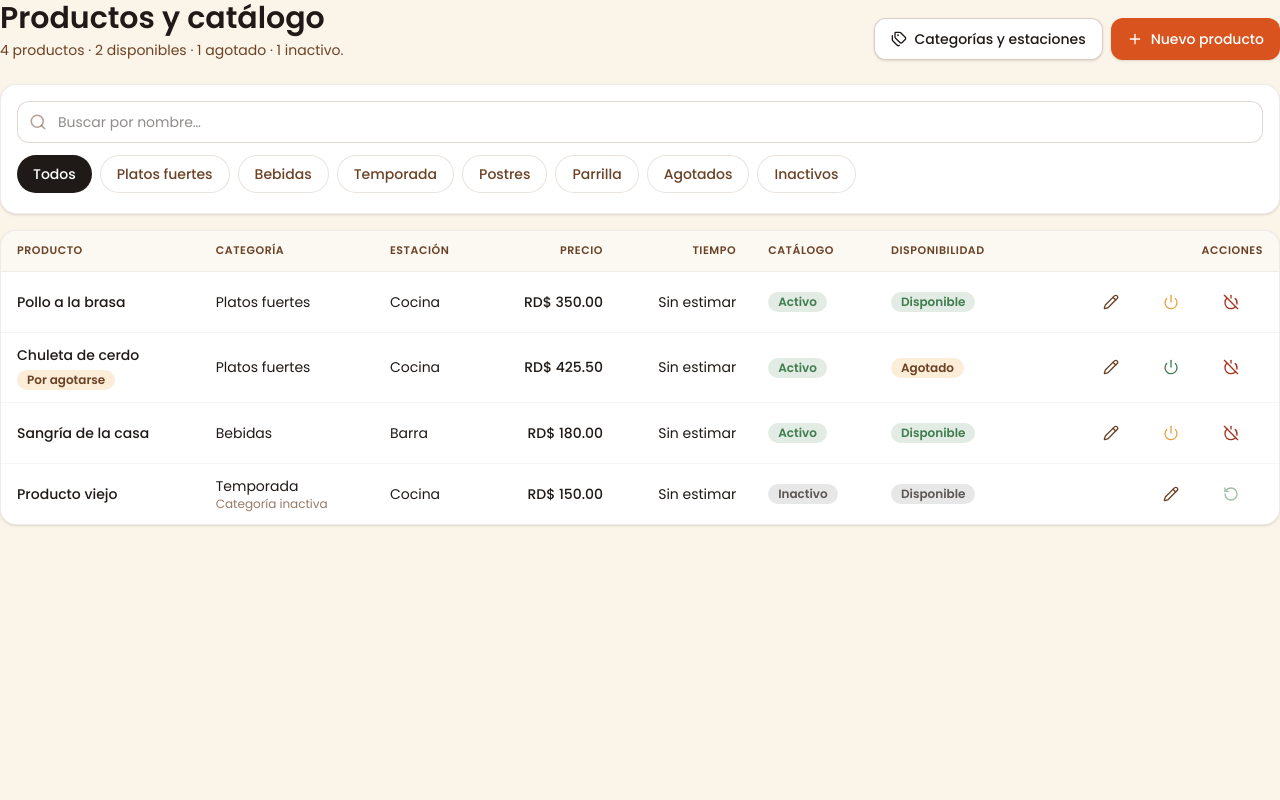
Productos › crea un producto y refresca la tabla con lo que devolvió el servidor
Check: the text "Pollo a la brasa" is shown, box [17,292,126,312]
Click the button "Nuevo producto" at (1195, 39), box [1111,18,1279,60]
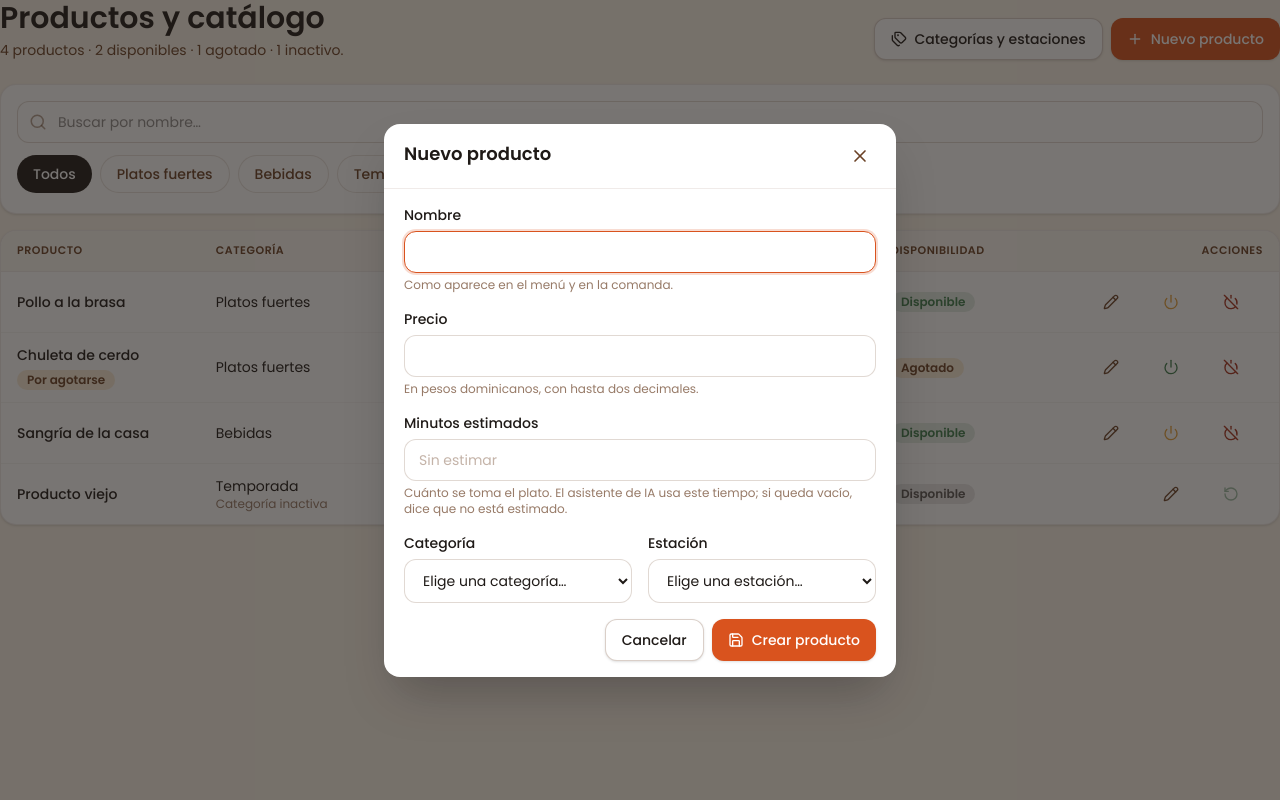
Type "Costillas" into the field labelled "Nombre" at (640, 252), box [404,230,876,272]
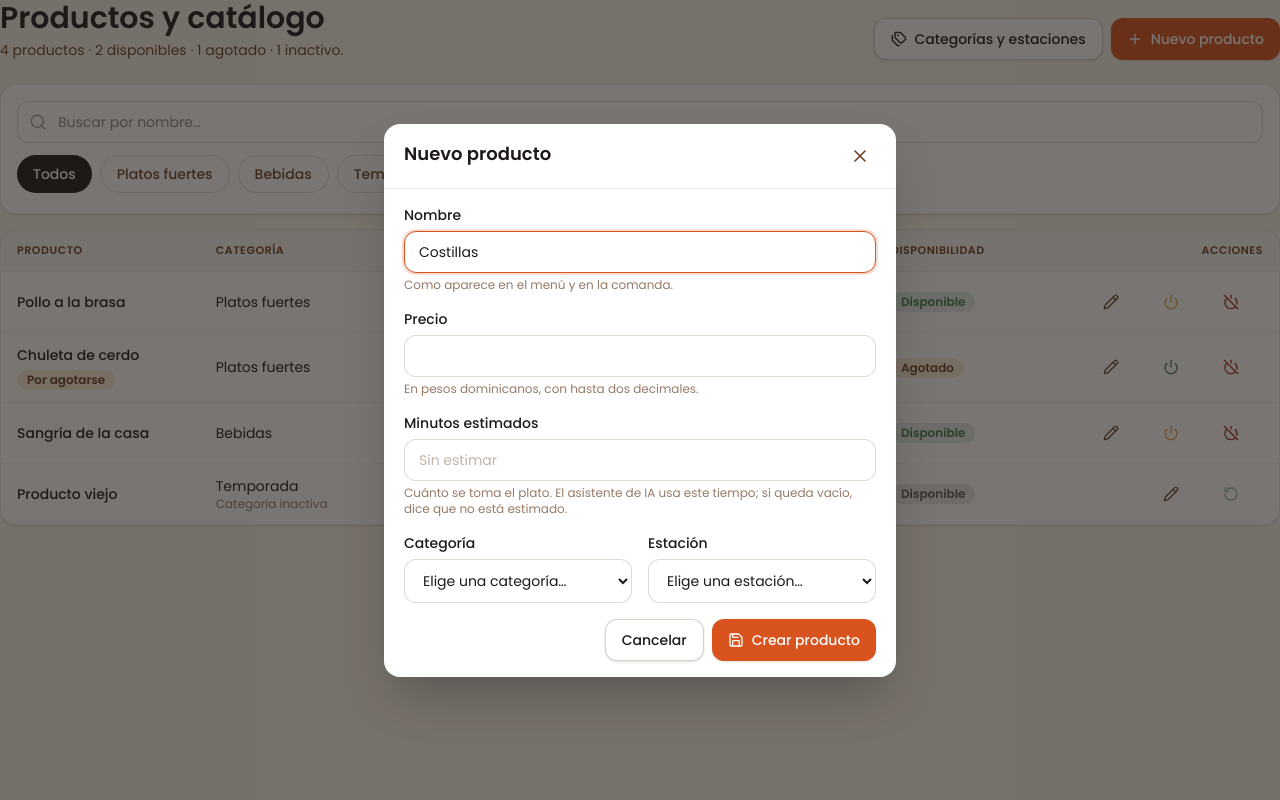
Type "495.50" into the field labelled "Precio" at (640, 356), box [404,334,876,376]
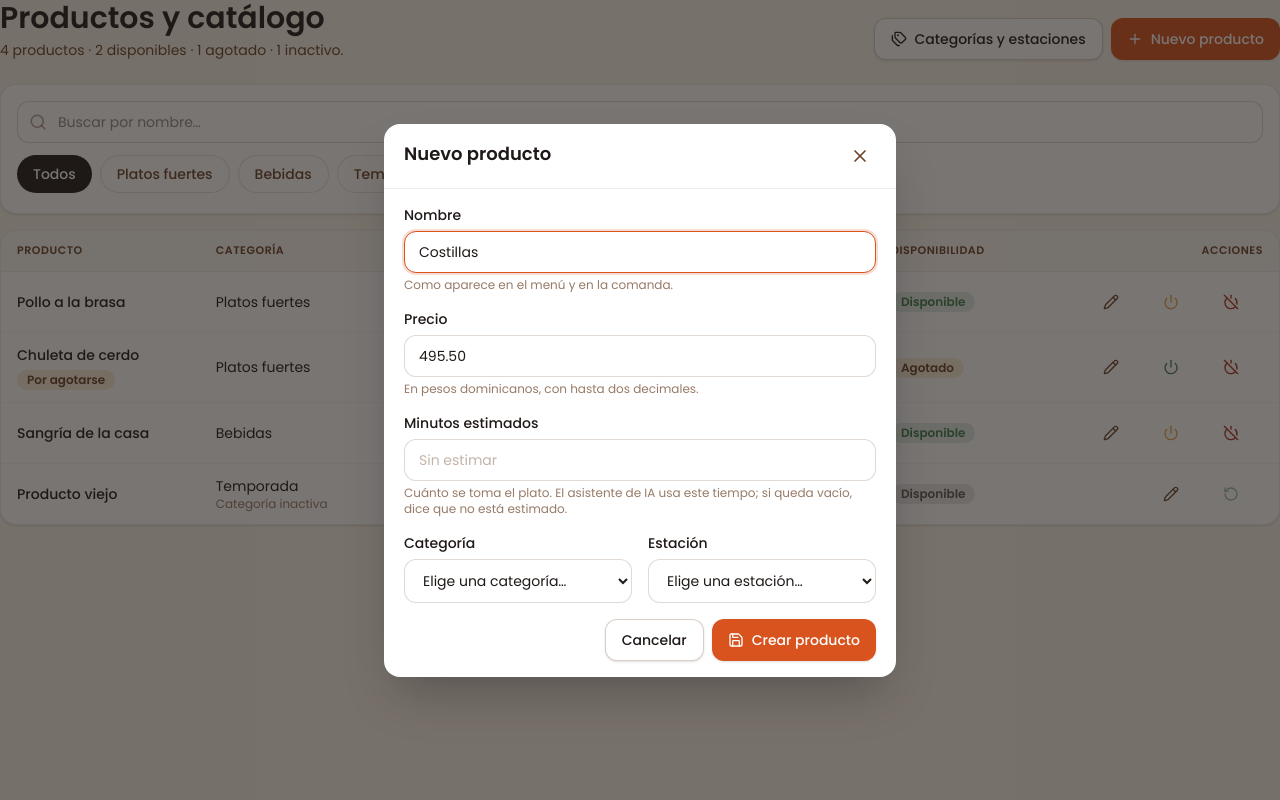
Select "Platos fuertes" in the dropdown labelled "Categoría" at (518, 580), box [404,558,632,602]
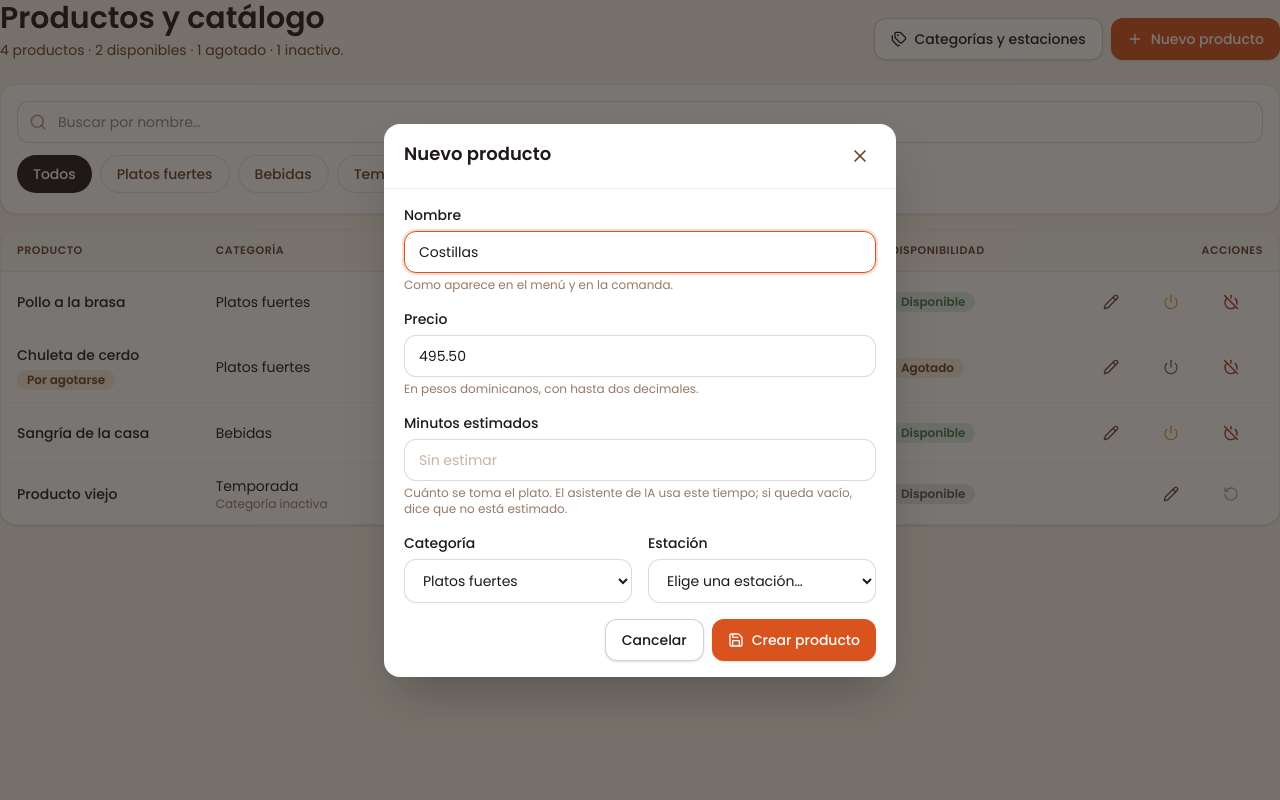
Select "Cocina" in the dropdown labelled "Estación" at (762, 580), box [648,558,876,602]
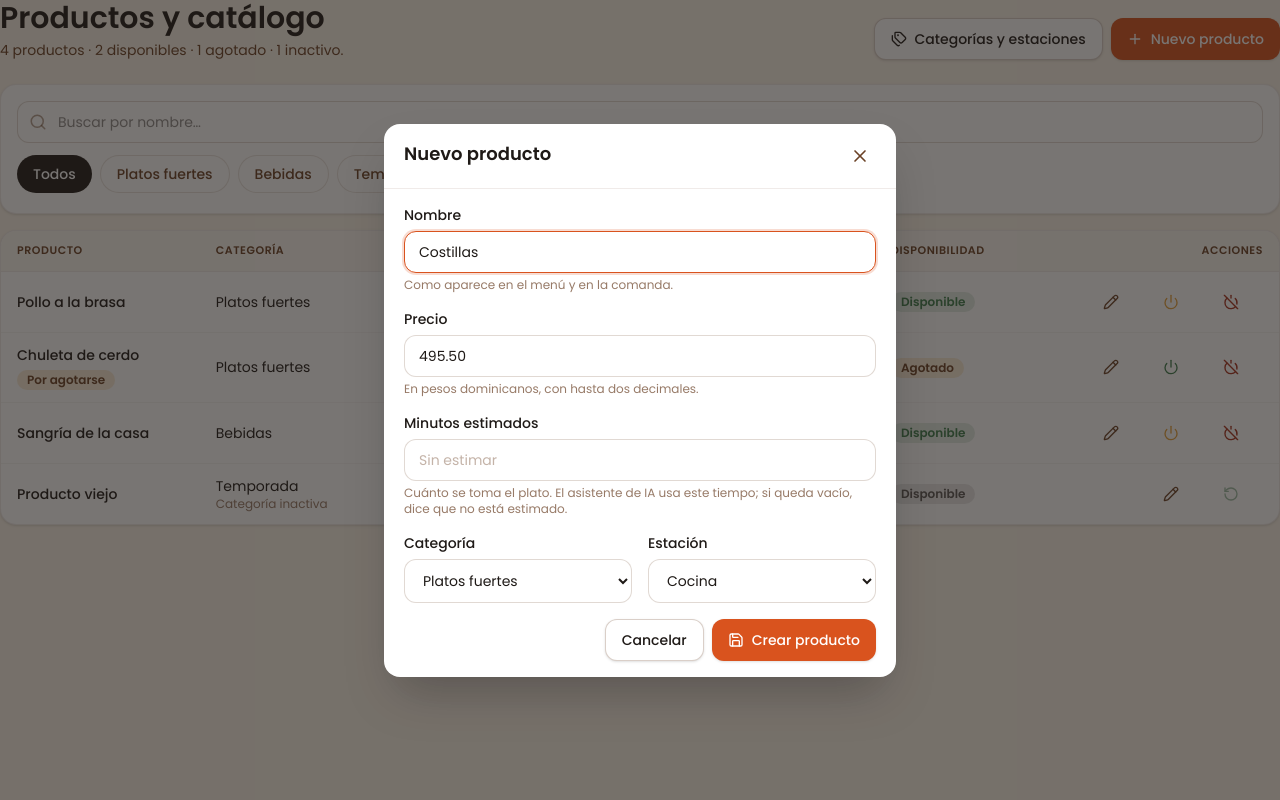
Click the button "Crear producto" at (794, 640), box [712,618,876,660]
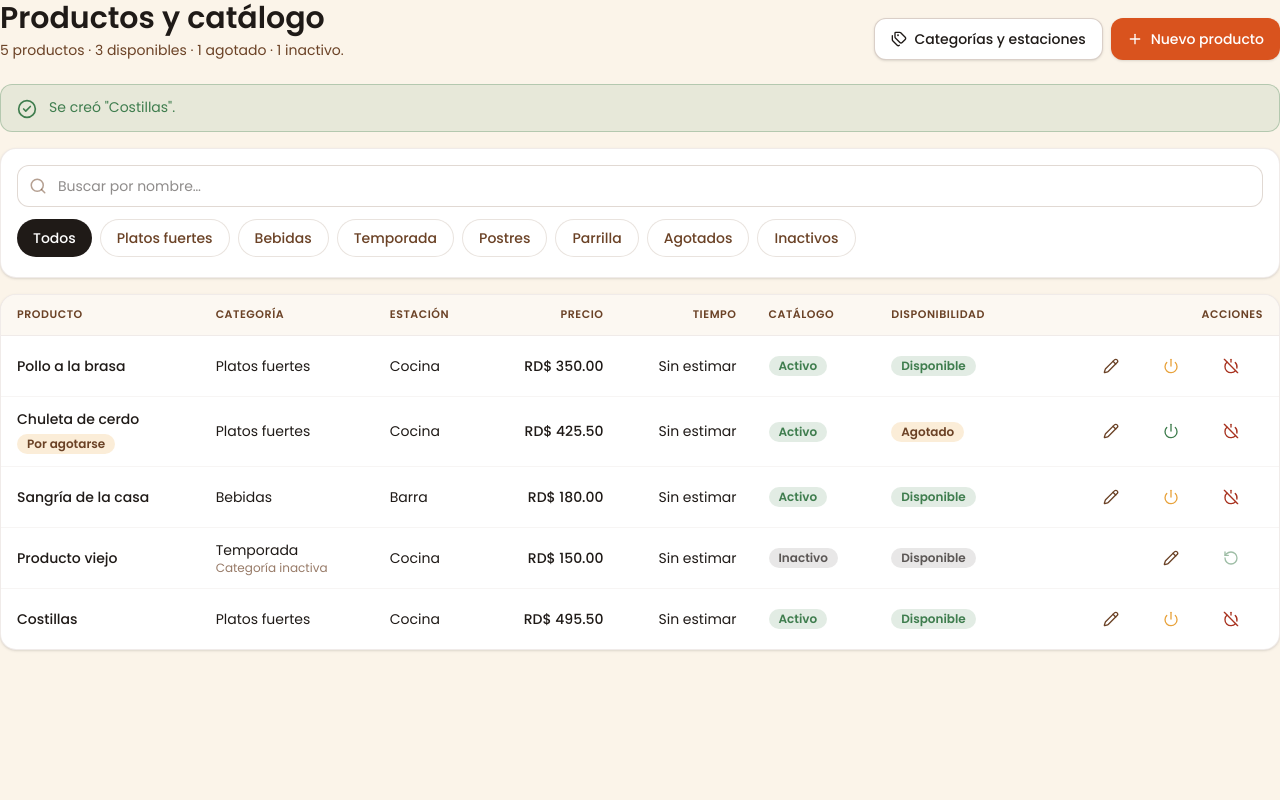
Check: the text "Se creó \"Costillas\"." is shown, box [49,97,175,117]
Check: the text "Costillas" is shown, box [17,609,78,629]
Check: the text "RD$ 495.50" is shown, box [524,609,603,629]
